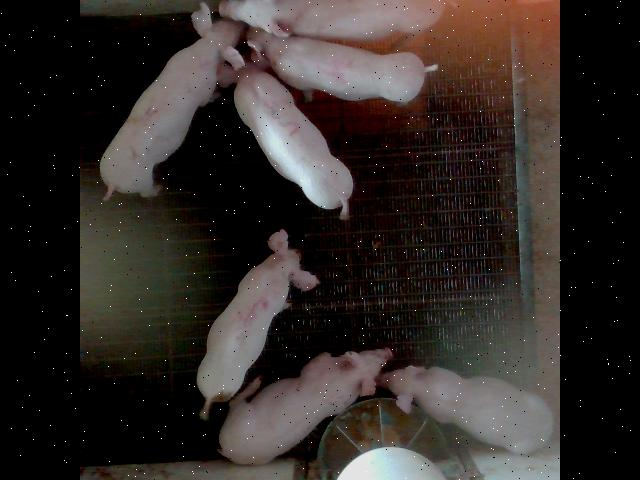pig-3: (218, 49, 352, 218)
pig-4: (248, 28, 437, 102)
pig-5: (198, 229, 318, 418)
